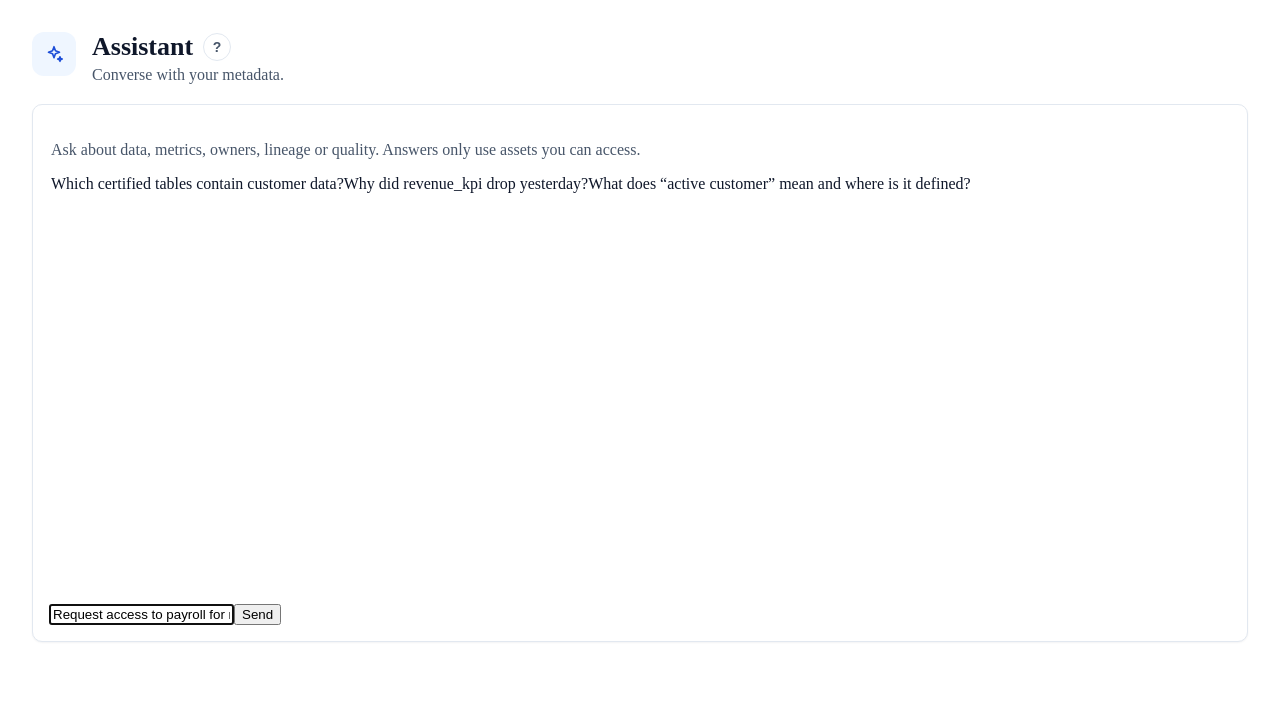
Scenario: puts a question from the address in the box and sends nothing until the person presses Send
Check: the field named "Ask the assistant" holds "Request access to payroll for me", box x1=49 y1=604 x2=234 y2=625
Click the button "Send": (258, 614) x1=234 y1=604 x2=281 y2=625
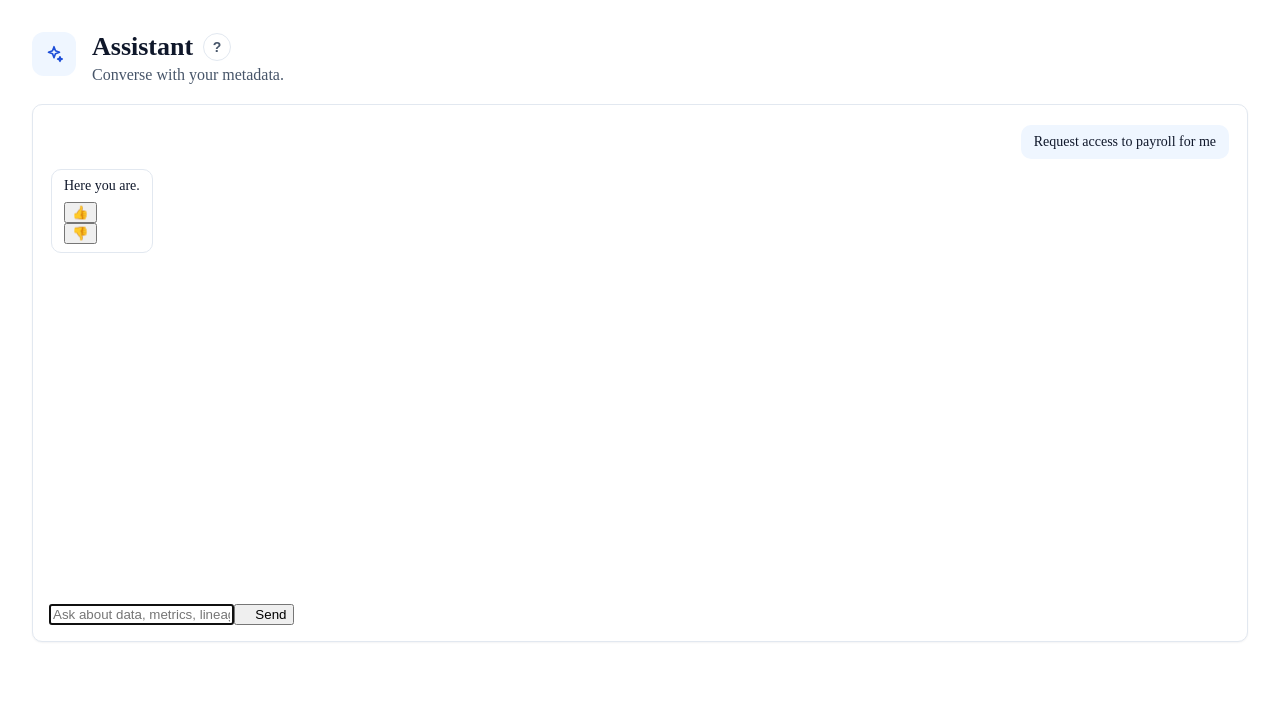
Check: the text "Here you are." is shown, box x1=64 y1=178 x2=140 y2=194
